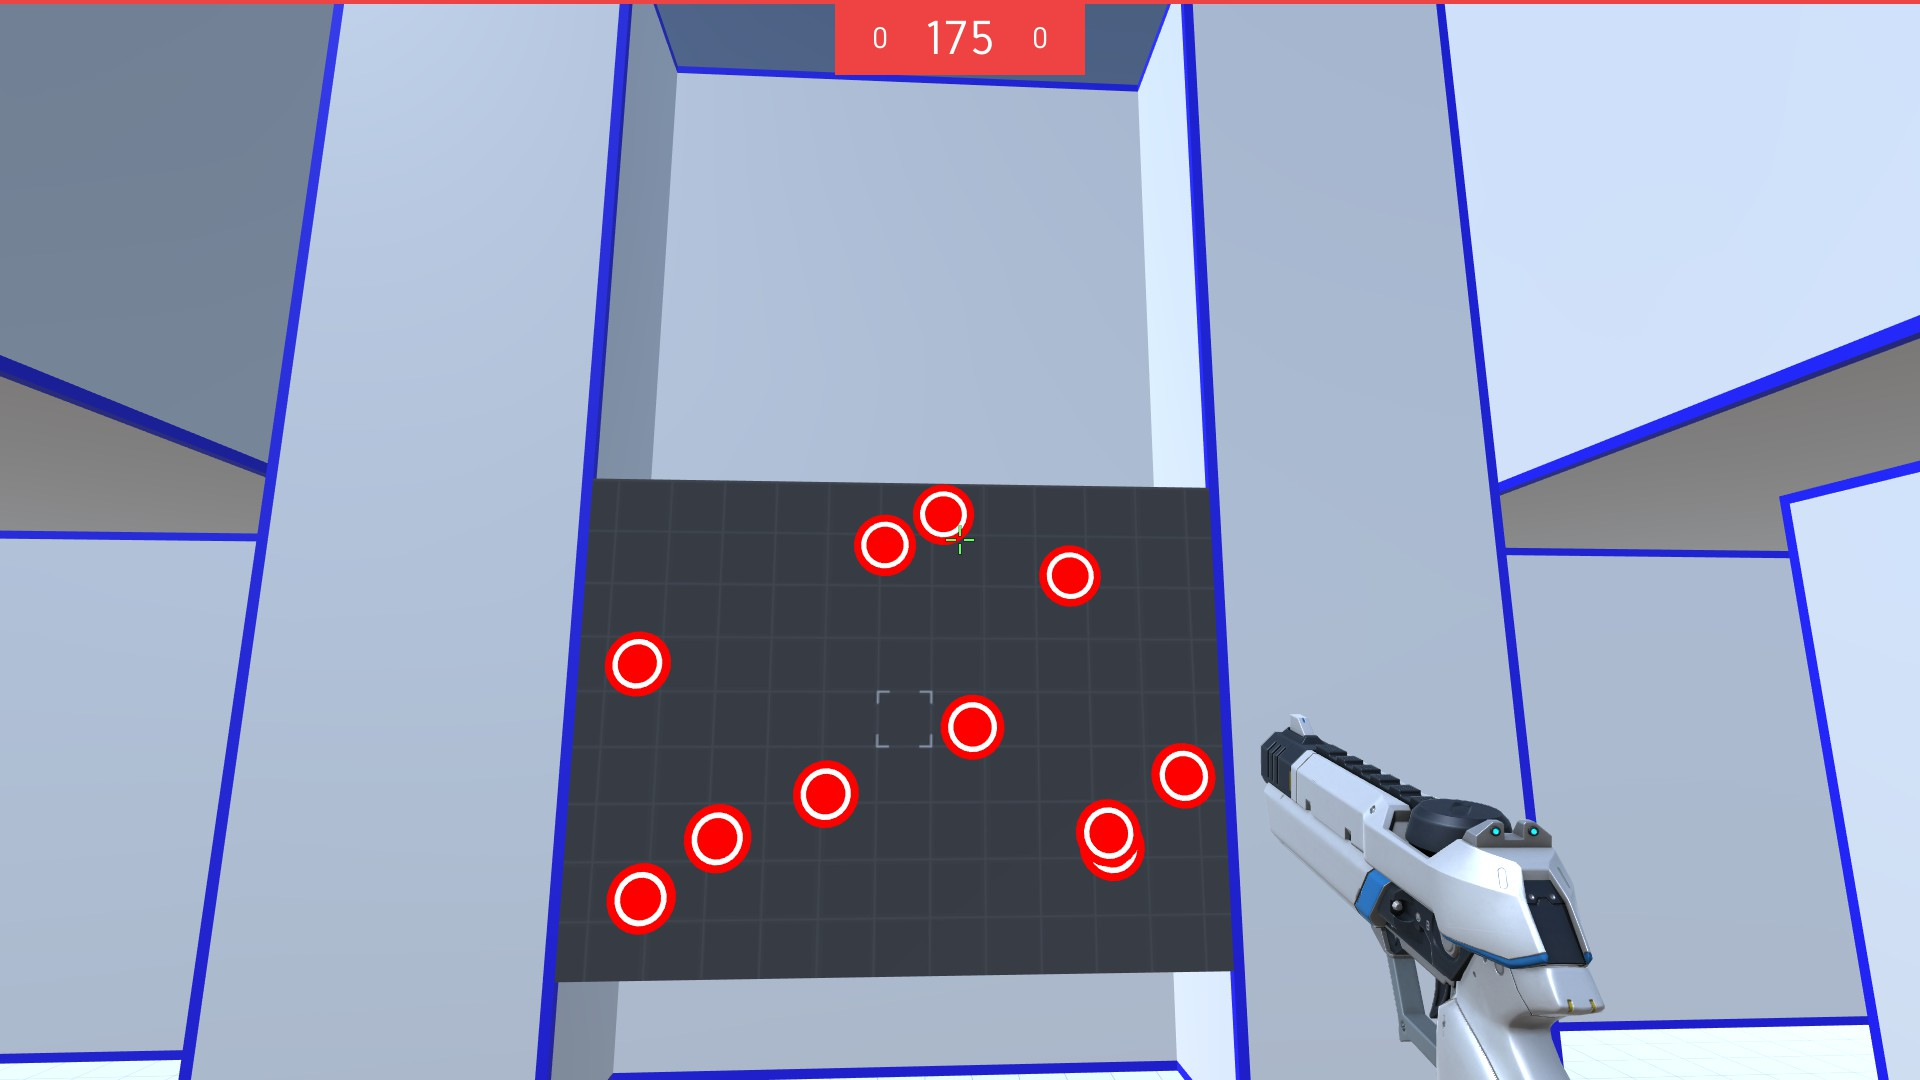target: (789, 754, 861, 832), (605, 860, 680, 934), (603, 628, 676, 699), (680, 800, 752, 873), (1035, 539, 1105, 611), (938, 692, 1005, 764), (1146, 742, 1216, 808), (1071, 798, 1139, 858), (855, 513, 916, 578), (913, 487, 976, 547), (1076, 856, 1149, 877)
